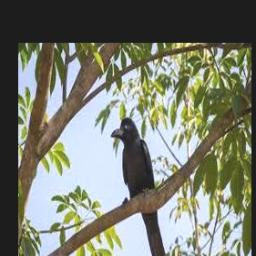Crow: (112, 117, 165, 256)
